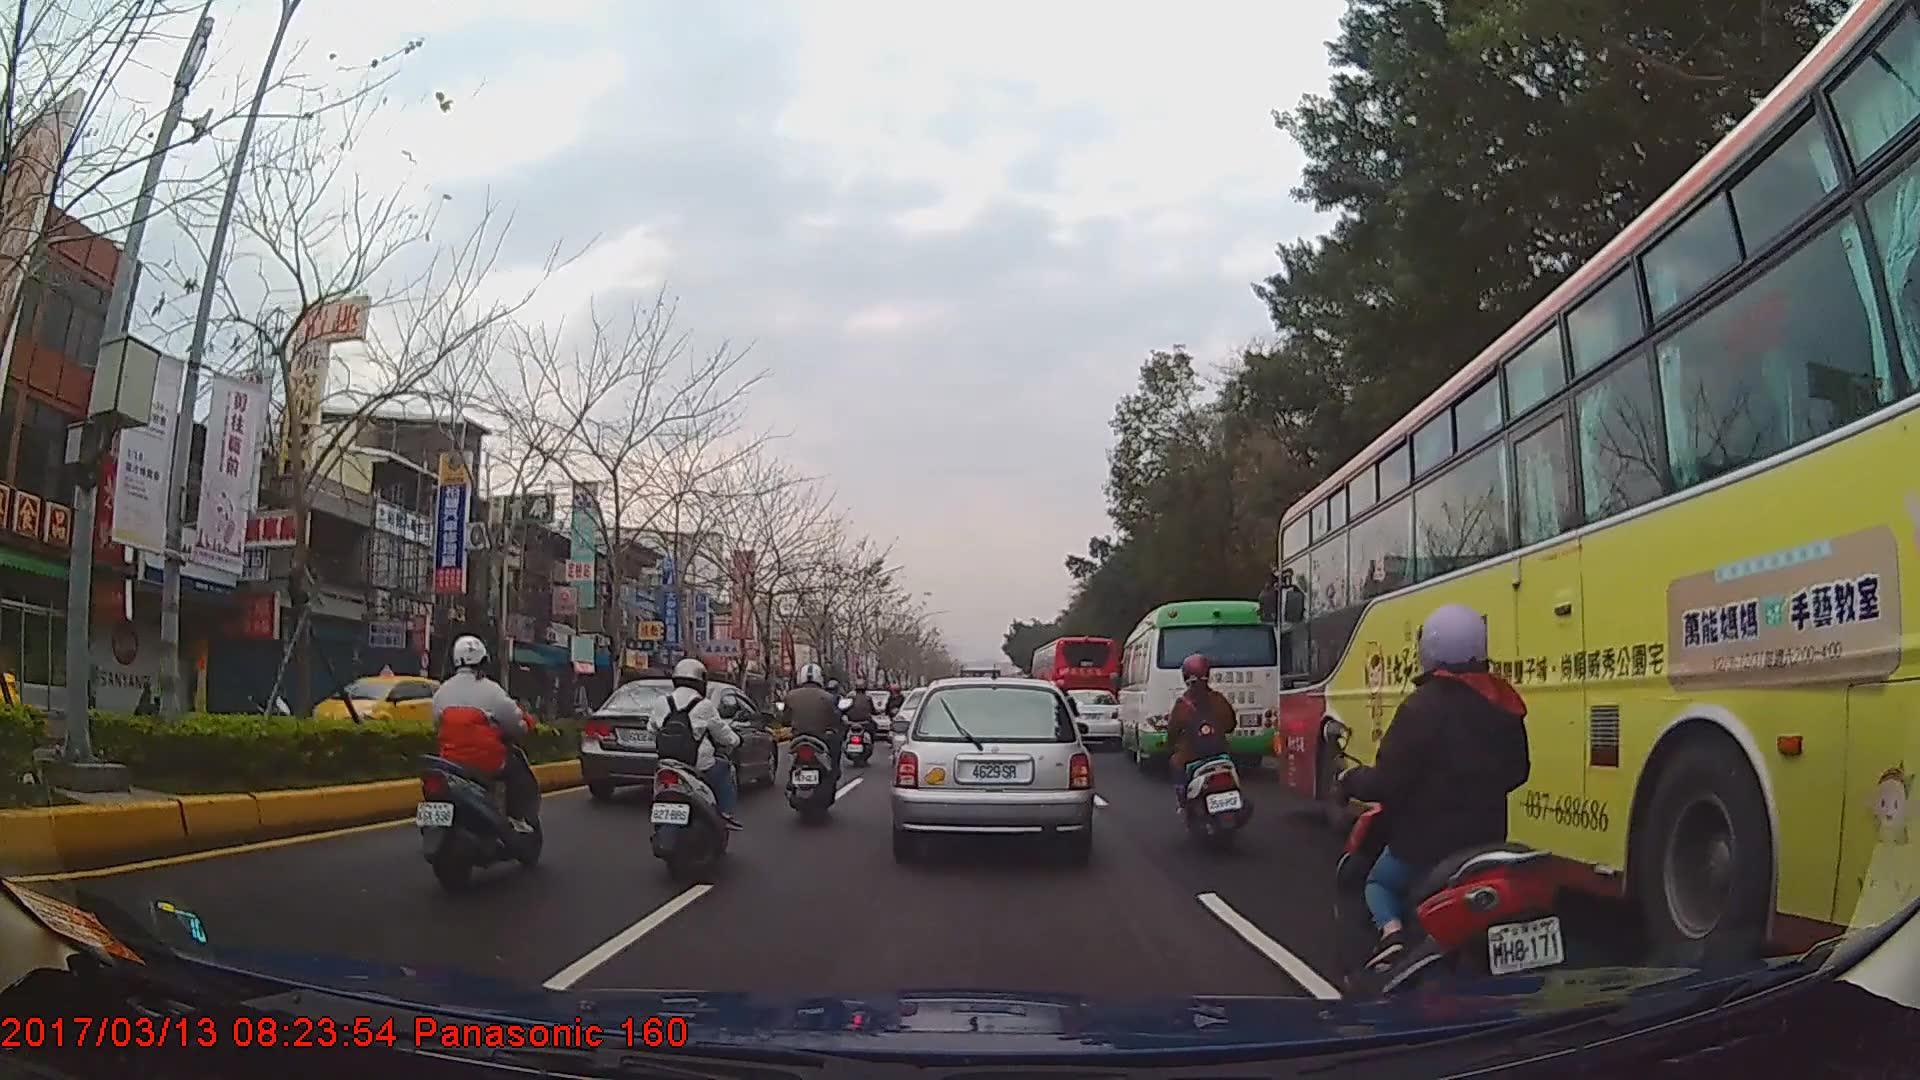rider: (1346, 600, 1567, 1002), (416, 633, 543, 895), (649, 657, 740, 882), (1160, 652, 1249, 848), (779, 665, 850, 822), (843, 679, 881, 769), (824, 678, 850, 731), (885, 681, 907, 742)
vehicle: (1271, 0, 1920, 1003), (892, 672, 1091, 857), (1115, 597, 1284, 772), (575, 677, 779, 801), (302, 661, 456, 751), (1030, 633, 1116, 741), (1051, 686, 1123, 745)
